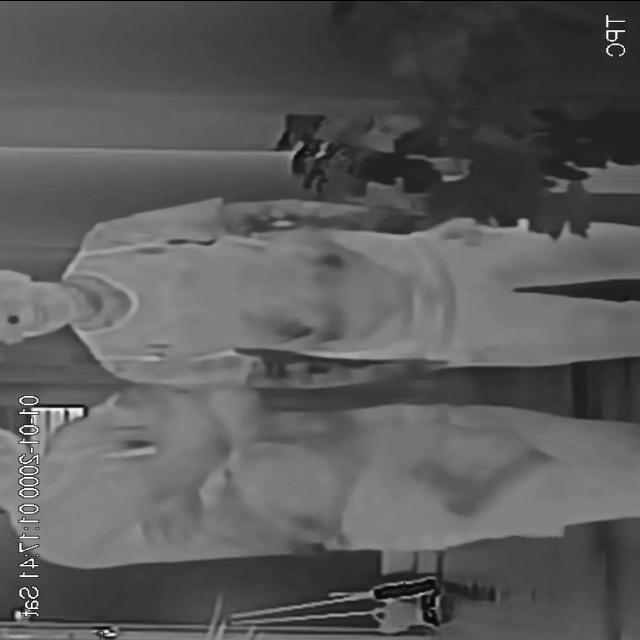Weapon: (402, 424, 576, 536)
